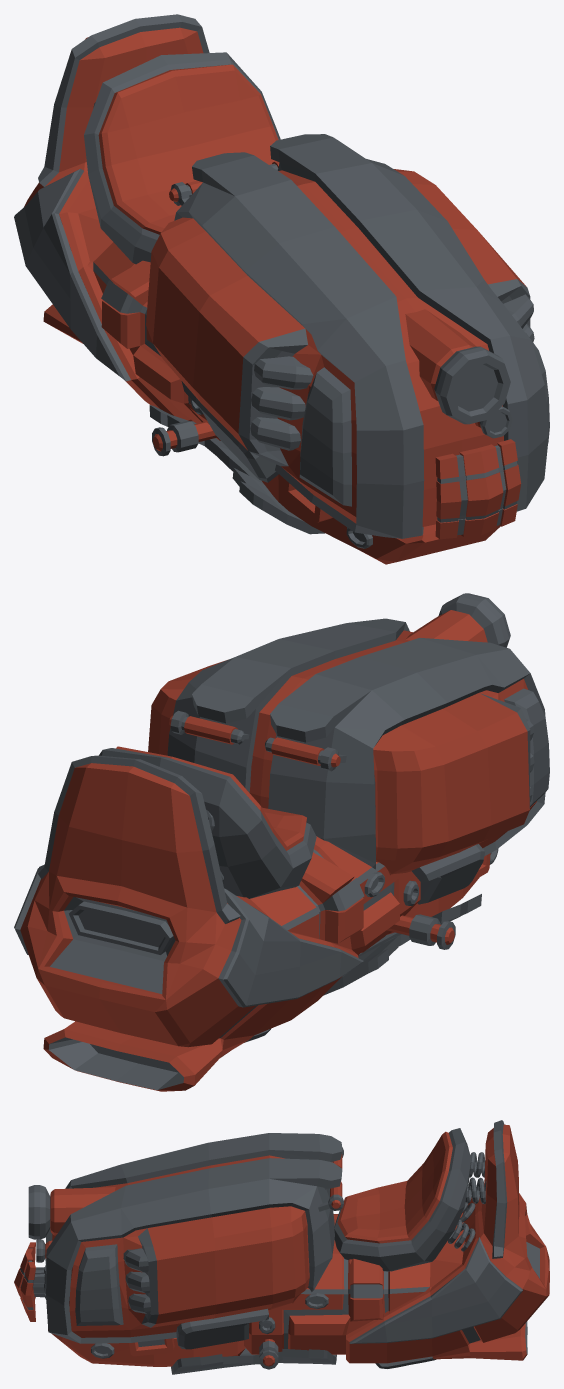
Rendered from Personal_Vehicle_01_Red.fbx.
3 renders of one model, top to bottom at view 1: azimuth 30°, elevation 25°; view 2: azimuth 150°, elevation 25°; view 3: azimuth 270°, elevation 25°, orthographic. The views are drawn at different scales.
Visible parts, largest first — view 1: Personal_Vehicle_01_Red; view 2: Personal_Vehicle_01_Red; view 3: Personal_Vehicle_01_Red.
Part boxes in pixels (bbox=[...]): Personal_Vehicle_01_Red: bbox=[14, 14, 549, 564]; Personal_Vehicle_01_Red: bbox=[14, 593, 549, 1091]; Personal_Vehicle_01_Red: bbox=[14, 1120, 549, 1374].
Size of the model in its own units: 141 by 148 by 319.
2 materials, 2 textured.
